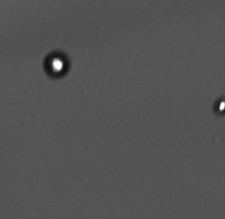Living Cell: (42, 46, 72, 81)
